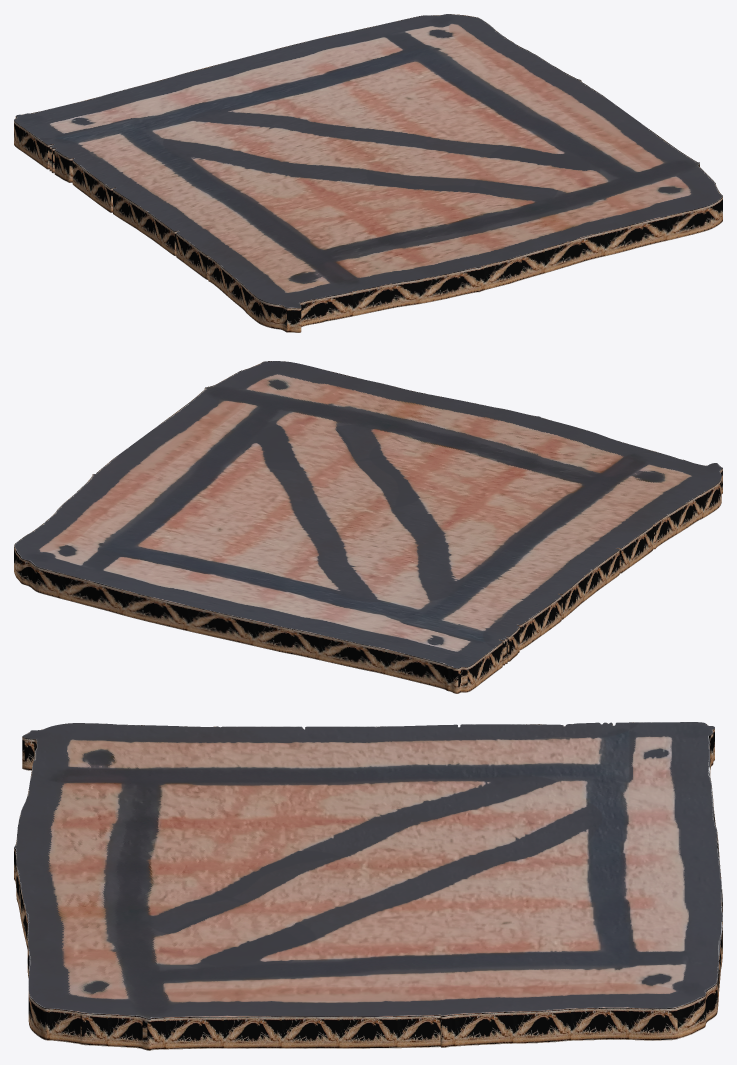
Rendered from Caja.fbx.
3 views of the same model, one above another, from view 1: azimuth 30°, elevation 25°; view 2: azimuth 150°, elevation 25°; view 3: azimuth 270°, elevation 25° (orthographic). The views are drawn at different scales.
Visible parts, largest first — view 1: Caja; view 2: Caja; view 3: Caja.
Boxes of the visible parts, box(x1,y1,x2,y2) form: Caja: box(14, 14, 722, 332); Caja: box(14, 361, 722, 693); Caja: box(14, 722, 722, 1050).
Bounding box in the file's own units: 2 × 0.1 × 2.02.
